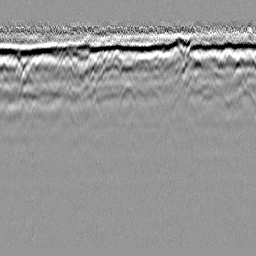cavity: (116, 80, 139, 115)
